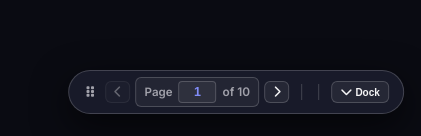
Scenario: StudioFloatingHud component › resets position when clicking the reset position button
Step 1. Press the mouse on the button with test id "hud-drag-handle" → [90, 92], box [86,86,94,98]
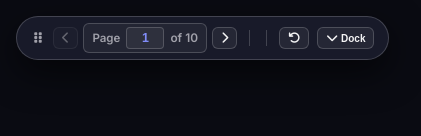
Step 2. Click the button with test id "hud-reset-pos-btn" → [294, 38], box [279,27,309,49]
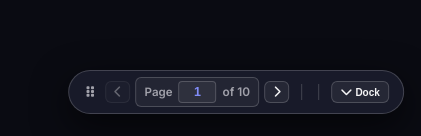
expect the button with test id "hud-reset-pos-btn" is gone: met
